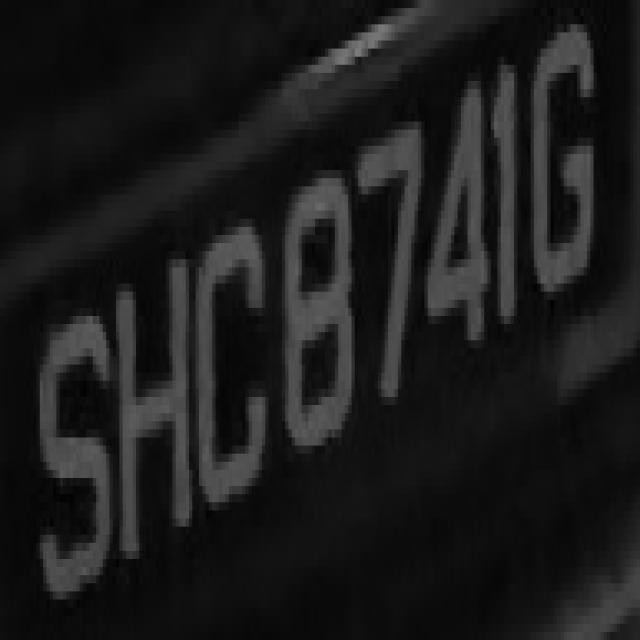1: (484, 32, 521, 381)
4: (421, 40, 484, 372)
7: (348, 105, 431, 446)
8: (272, 170, 358, 470)
C: (192, 194, 272, 518)
G: (518, 49, 600, 308)
H: (96, 243, 196, 559)
S: (27, 276, 112, 608)
